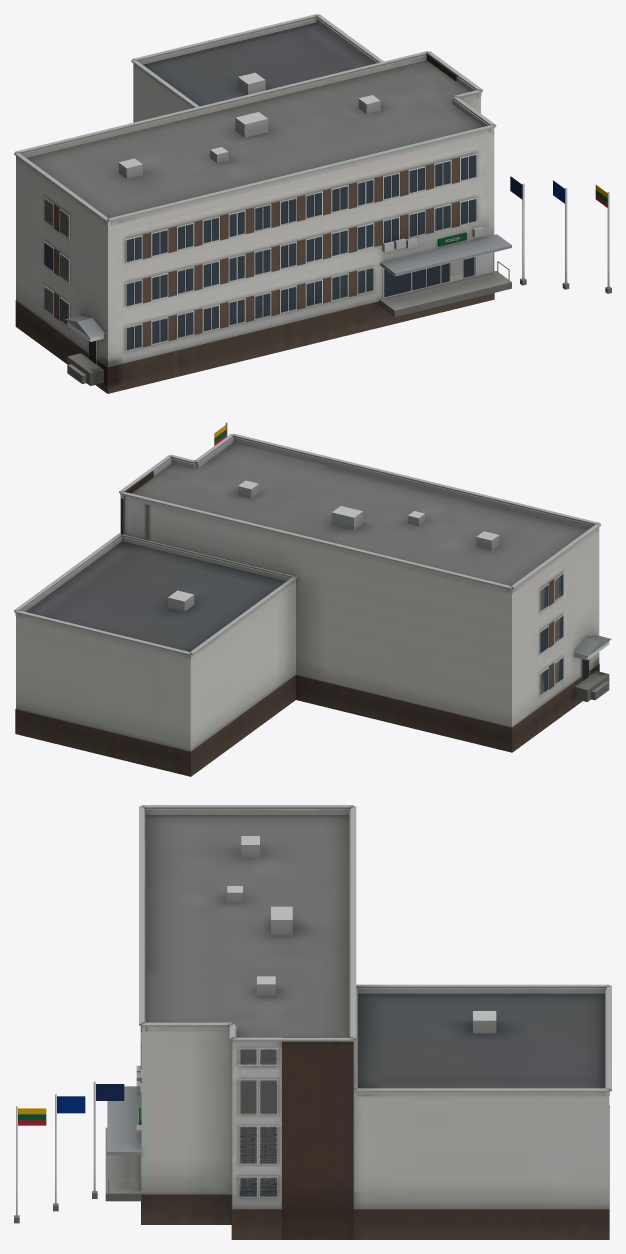
Rendered from policija.glb.
3 views of the same model, one above another, from view 1: azimuth 30°, elevation 25°; view 2: azimuth 150°, elevation 25°; view 3: azimuth 270°, elevation 25° (orthographic). The views are drawn at different scales.
Visible parts, largest first — view 1: building; view 2: building; view 3: building.
Part boxes in pixels (left/top/right/bottom): building: left=14, top=14, right=611, bottom=393; building: left=14, top=422, right=611, bottom=776; building: left=14, top=805, right=611, bottom=1239.
Bounding box in the file's own units: 39.93 × 14.8 × 38.35.
Materials: 3 (3 with a texture image).
